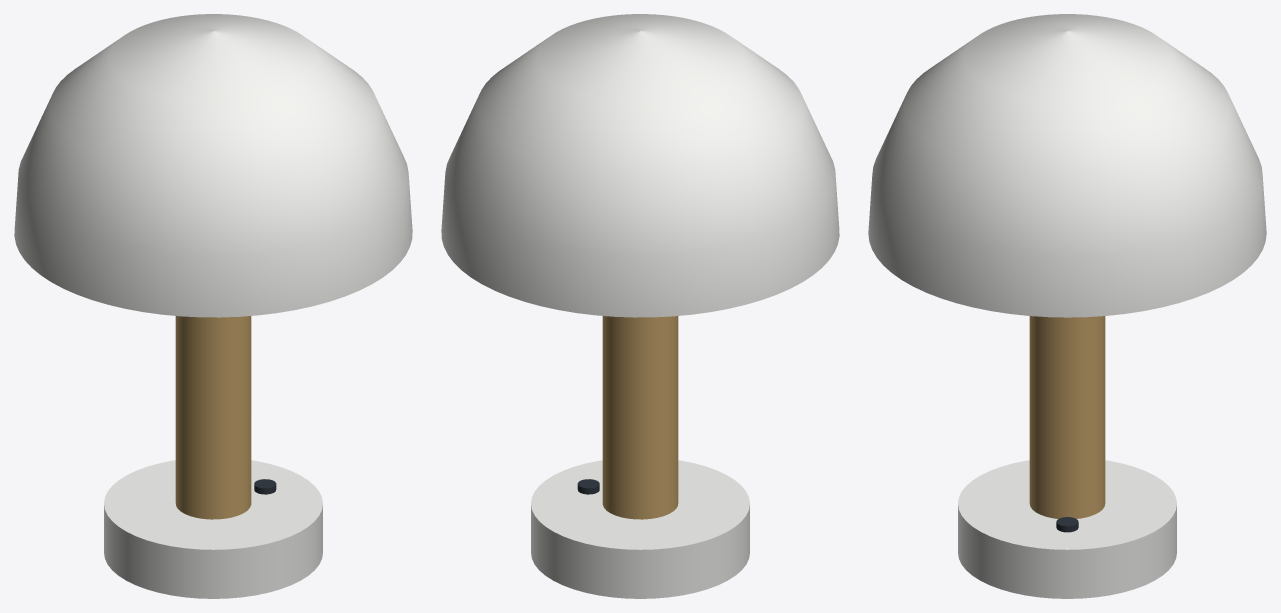
The model's file is apartment-lamp-opal.glb.
The picture shows the model from 3 angles, left to right: view 1: azimuth 30°, elevation 25°; view 2: azimuth 150°, elevation 25°; view 3: azimuth 270°, elevation 25°; orthographic projection.
Parts seen in each view (by area): view 1: apartment-lamp-opal authored assembly; view 2: apartment-lamp-opal authored assembly; view 3: apartment-lamp-opal authored assembly.
Part boxes in pixels (x1,y1,x2,y2): apartment-lamp-opal authored assembly: [14, 14, 412, 598]; apartment-lamp-opal authored assembly: [441, 14, 839, 598]; apartment-lamp-opal authored assembly: [868, 14, 1266, 598].
Bounding box in the file's own units: 0.18 × 0.26 × 0.18.
